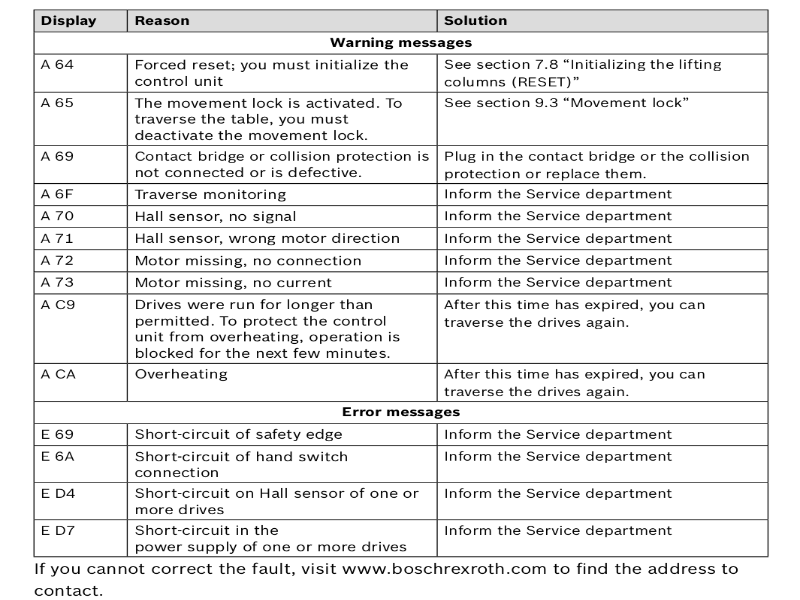border: (26, 1, 779, 561)
cell: (131, 297, 402, 359), (131, 95, 407, 141), (440, 147, 753, 180), (131, 148, 433, 179), (133, 56, 410, 89), (131, 484, 423, 515), (131, 522, 423, 553), (441, 298, 710, 331), (442, 366, 711, 399), (441, 57, 728, 87), (130, 449, 346, 479), (131, 229, 405, 246), (441, 95, 702, 112), (440, 425, 680, 443), (440, 448, 680, 466), (440, 486, 680, 504), (441, 522, 681, 540), (130, 251, 365, 269), (129, 273, 364, 291), (439, 186, 677, 202), (440, 208, 678, 224), (440, 230, 678, 246), (440, 252, 678, 268), (440, 274, 678, 290), (131, 427, 344, 441), (131, 186, 299, 202), (131, 208, 305, 223), (328, 33, 476, 50), (338, 404, 463, 419), (130, 366, 231, 384), (442, 11, 521, 28), (130, 11, 195, 30), (37, 12, 103, 28), (38, 55, 78, 75), (37, 94, 77, 114), (37, 148, 77, 168), (38, 185, 79, 202), (38, 207, 79, 224), (37, 229, 78, 246), (37, 251, 78, 268), (37, 273, 78, 290), (37, 296, 78, 313), (37, 365, 78, 382), (36, 425, 77, 442), (36, 447, 77, 464), (37, 484, 78, 501), (37, 521, 78, 538)
